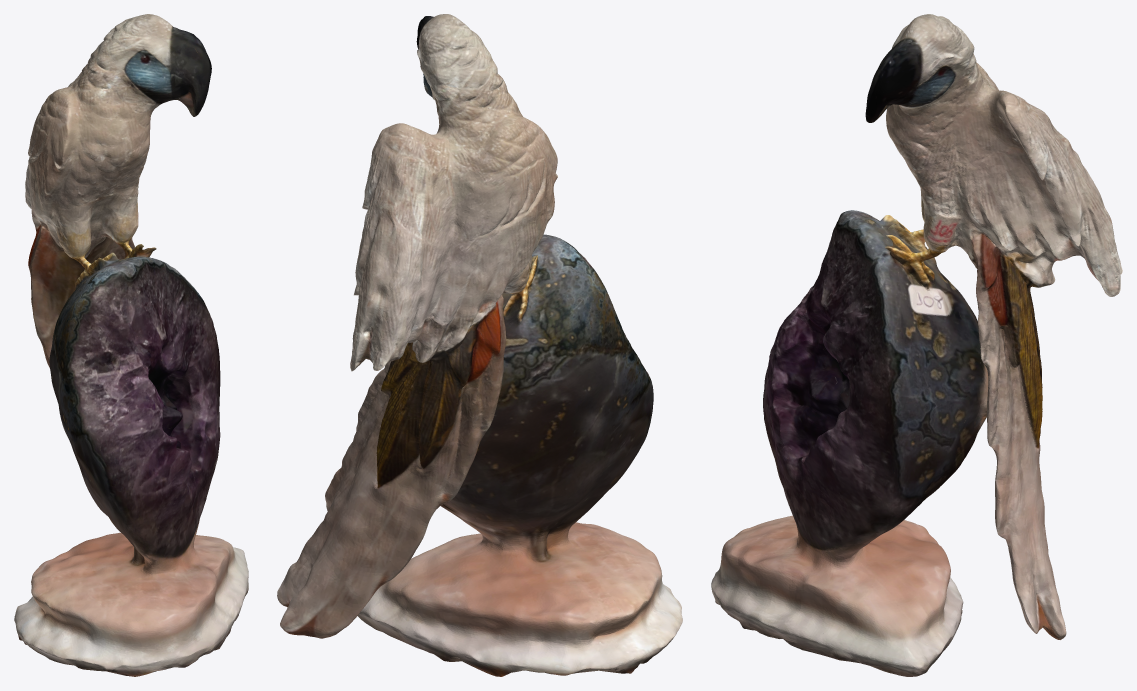
File: sculpture-4k.glb
3 renders of one model, left to right at view 1: azimuth 30°, elevation 25°; view 2: azimuth 150°, elevation 25°; view 3: azimuth 270°, elevation 25°, orthographic. The views are drawn at different scales.
Size of the model in its own units: 0.4444 by 0.9287 by 0.5517.
Materials: 1 (1 with a texture image).
